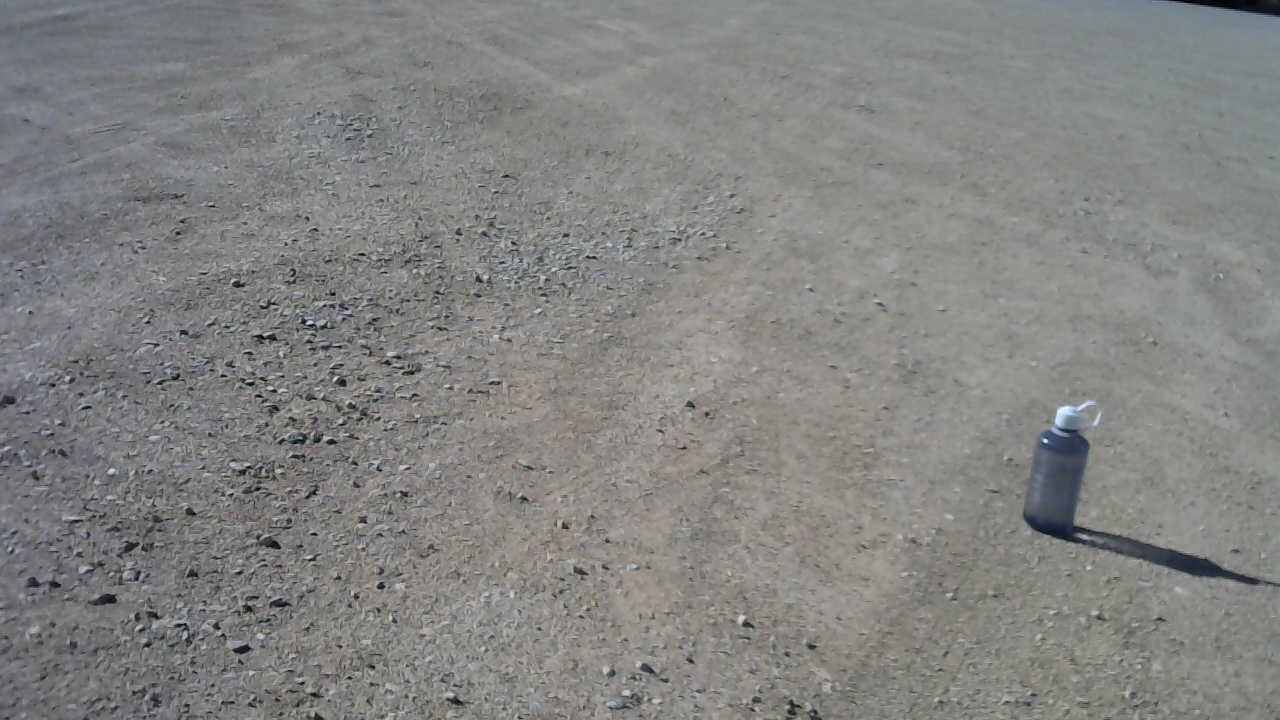bottle: (1018, 401, 1102, 535)
